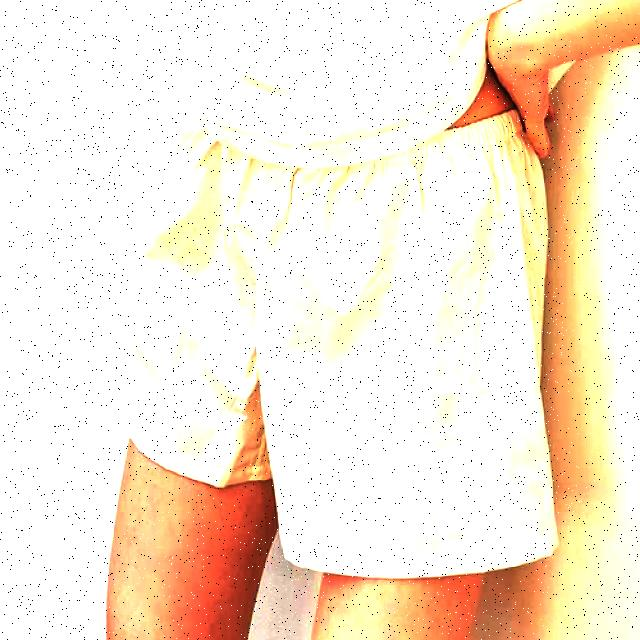dress: (120, 117, 542, 539)
